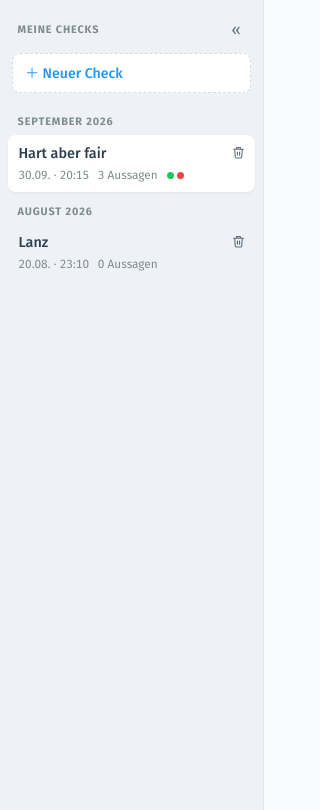
Test: MyChecksSidebar › deletes a session after the in-page confirmation
This screenshot has width=320, height=810.
Click the button named "Lanz löschen".
click(238, 242)  # box [226,229,250,254]
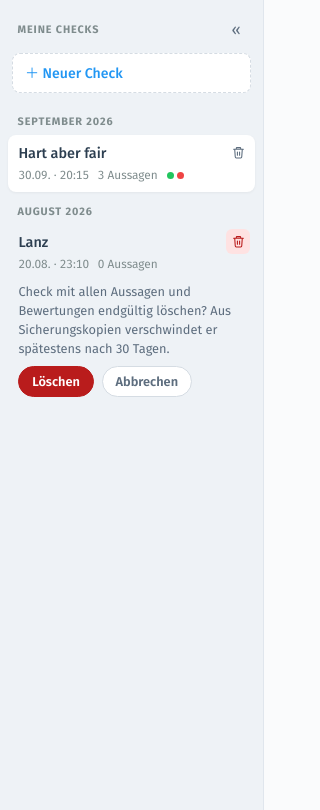
Click the button "Löschen".
click(56, 382)  # box [18,366,94,397]
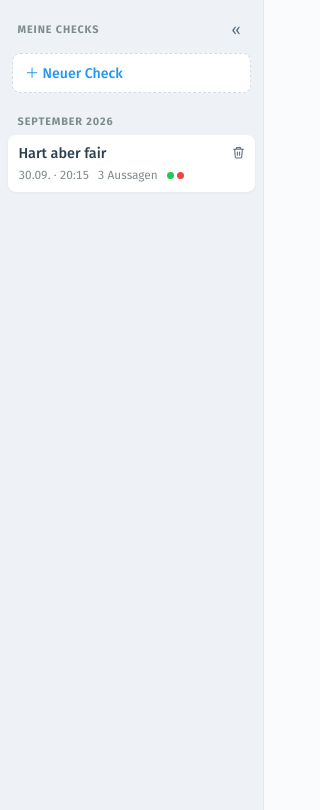
Now the link "Lanz" is gone
